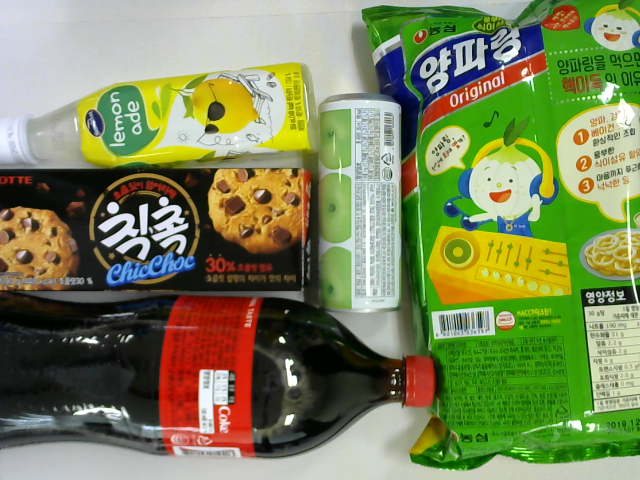Chicchok_Original_2400: (1, 167, 317, 296)
Coca_Cola_1.5L: (1, 290, 437, 461)
Demisoda_Apple_Can_250ml: (317, 93, 405, 313)
Oninon_Ring: (360, 1, 640, 472)
Sunkist_Lemonaid_Pet: (1, 60, 319, 169)
